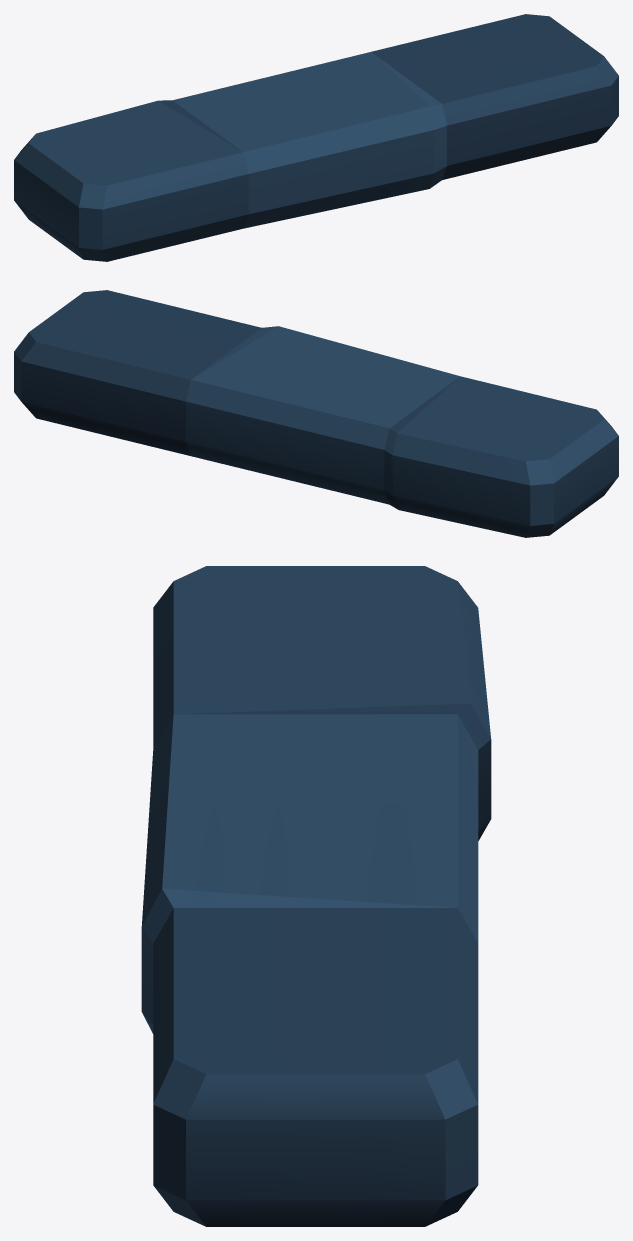
File: floor_divider_2.fbx
The picture shows the model from 3 angles, top to bottom: view 1: azimuth 30°, elevation 25°; view 2: azimuth 150°, elevation 25°; view 3: azimuth 270°, elevation 25°; orthographic projection. The views are drawn at different scales.
Parts seen in each view (by area): view 1: floor_divider_2; view 2: floor_divider_2; view 3: floor_divider_2.
Part boxes in pixels (bbox=[...]): floor_divider_2: bbox=[14, 14, 618, 261]; floor_divider_2: bbox=[14, 290, 618, 537]; floor_divider_2: bbox=[141, 566, 491, 1226].
Size of the model in its own units: 210 by 30.54 by 58.77.
